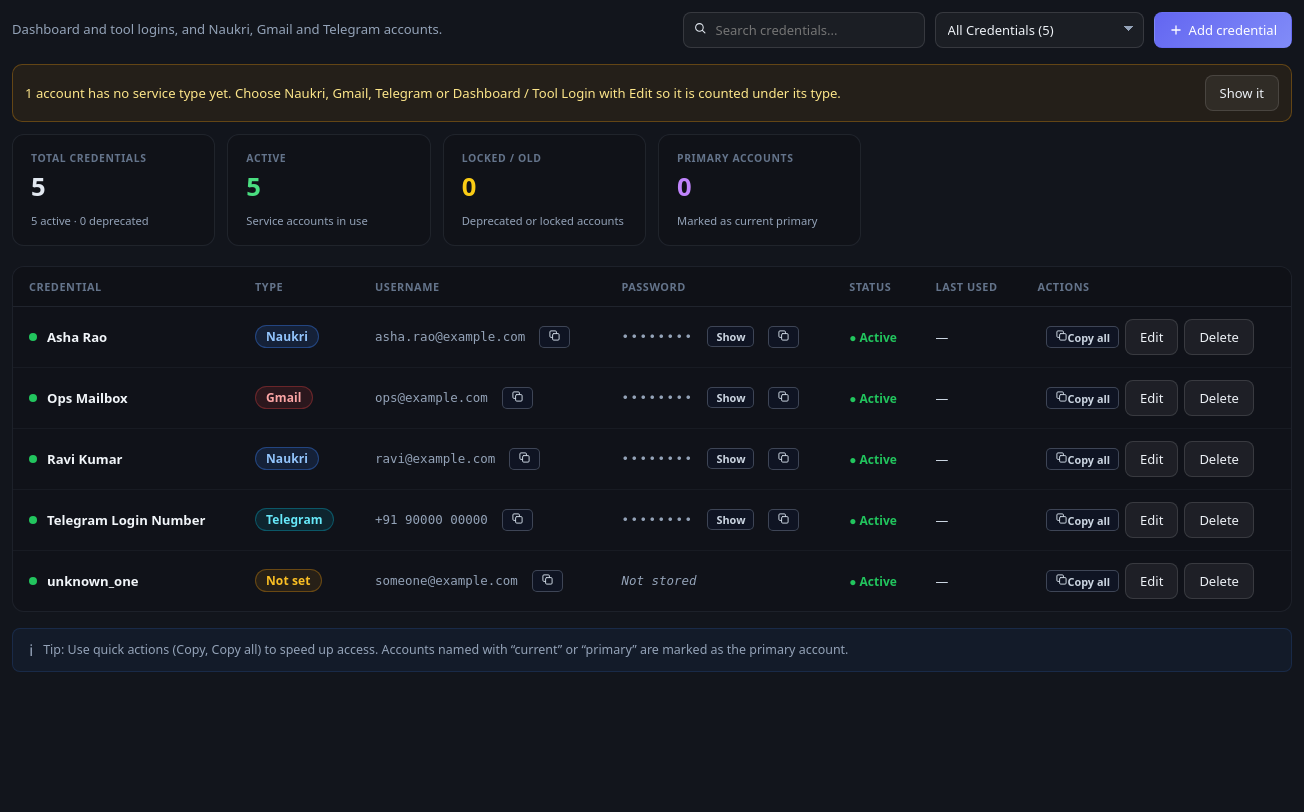
Test case: the Account type filter › says how many accounts still need a service, and shows them
Expected: the message shows "1 account has no service type yet.", left=12, top=64, right=1292, bottom=122
Click the button "Show it": (1242, 93) left=1205, top=75, right=1279, bottom=111
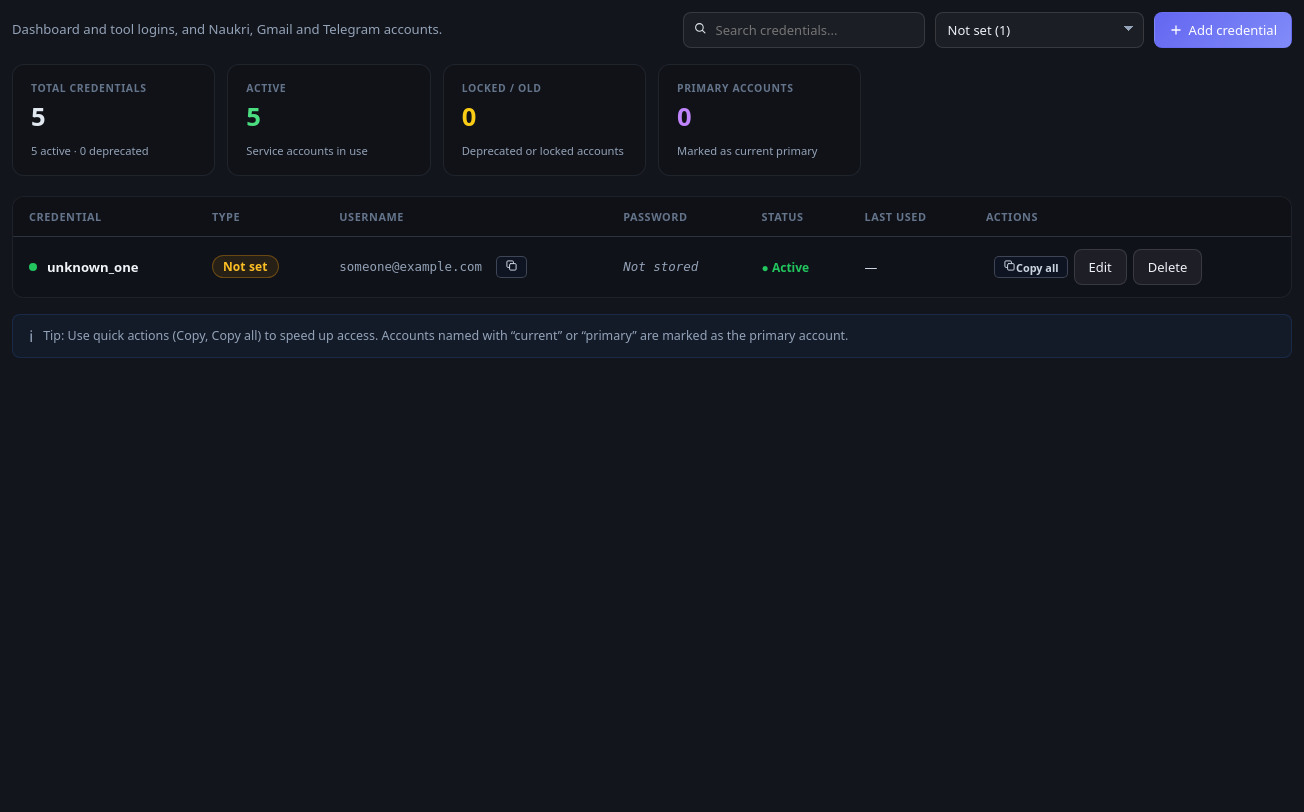
Result: the dropdown named "Credential type" shows "Not set (1)" at left=935, top=12, right=1144, bottom=48
Result: the message with class "dr-svc-notice" is gone
